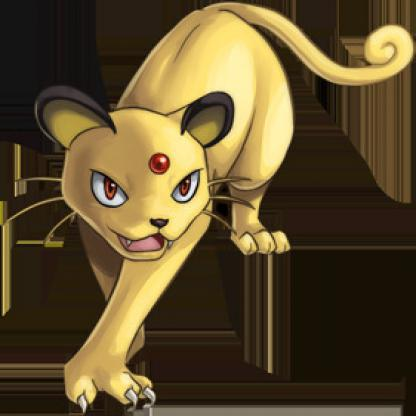Persian: (31, 1, 416, 409)
